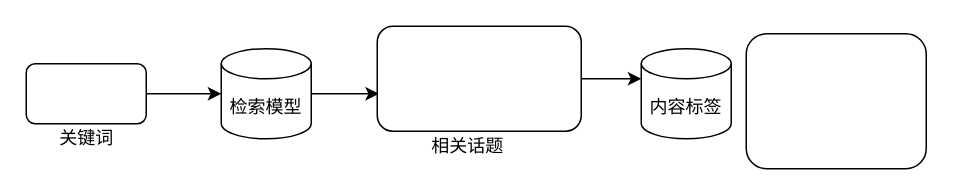
The diagram is 953 pixels wide and 195 high, and some of its shapes have lost their labels. The box of each missing label's shape, as (x1, y1, x2, y2) in pixels:
学生党 美妆: (25, 62, 146, 124)
学生党宝藏美妆 贫民窟女孩化妆品推荐 学生党最爱的美妆: (376, 25, 581, 131)
